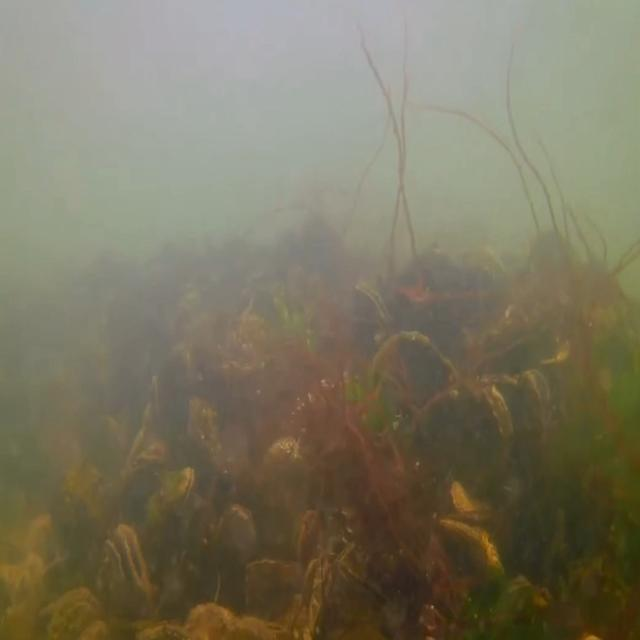Oyster-Closed: (350, 277, 392, 379), (145, 468, 197, 523)
Oyster-Indeterminate: (422, 383, 514, 474), (369, 329, 461, 415), (478, 367, 553, 441), (216, 502, 258, 602), (436, 515, 506, 573), (125, 372, 163, 478), (188, 394, 228, 475), (44, 587, 100, 640), (450, 479, 499, 520), (125, 437, 172, 477), (260, 433, 305, 472)
Oyster-Open: (94, 521, 156, 640), (298, 549, 332, 640)
